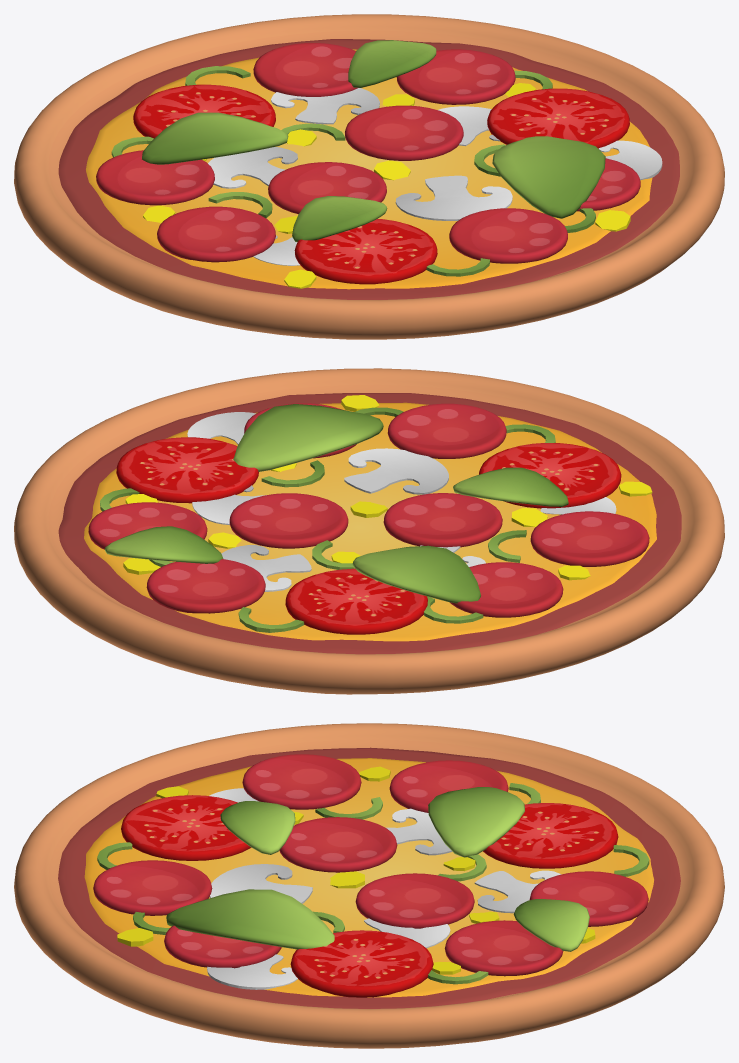
File: Pizza.fbx
The picture shows the model from 3 angles, top to bottom: view 1: azimuth 30°, elevation 25°; view 2: azimuth 150°, elevation 25°; view 3: azimuth 270°, elevation 25°; orthographic projection.
Visible parts, largest first — view 1: Pizza; view 2: Pizza; view 3: Pizza.
Part boxes in pixels (x1,y1,x2,y2): Pizza: (14,14,724,339); Pizza: (14,368,724,694); Pizza: (14,723,724,1048).
Bounding box in the file's own units: 29.89 × 2.7 × 29.89.
